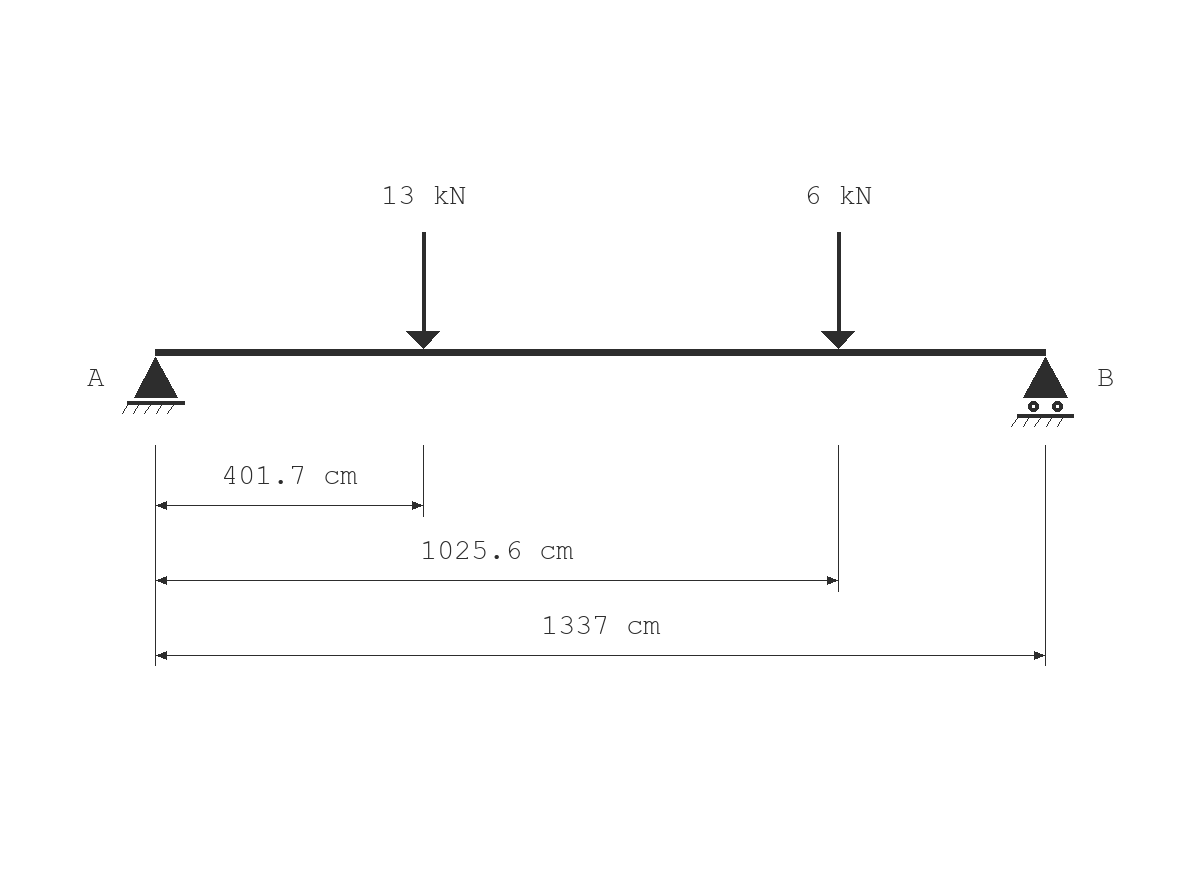pin_support: (122, 357, 185, 414)
point_load: (406, 232, 440, 349), (821, 232, 855, 349)
roller_support: (1011, 357, 1074, 427)
